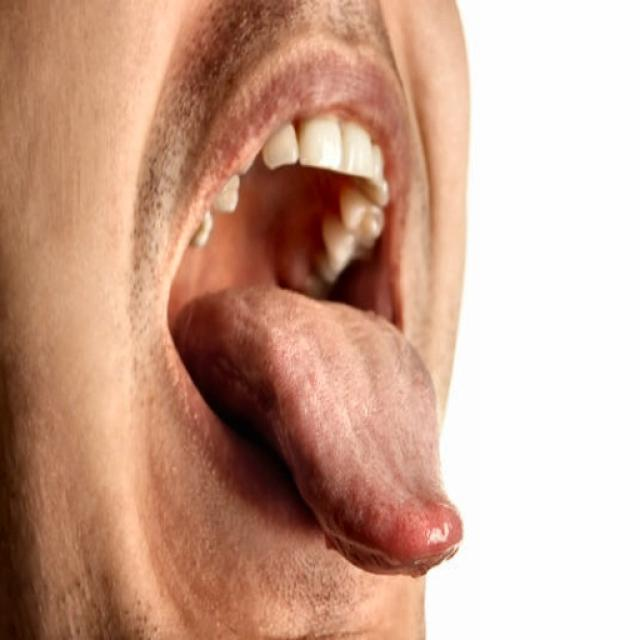processing_area: (165, 184, 460, 577)
